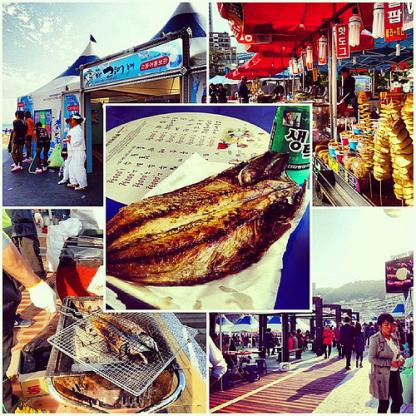Peixe: (101, 151, 317, 293)
